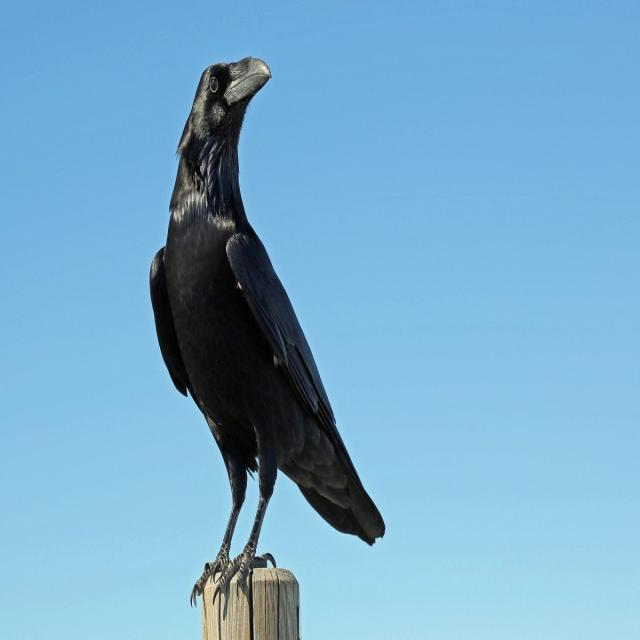crow: (183, 44, 310, 400)
